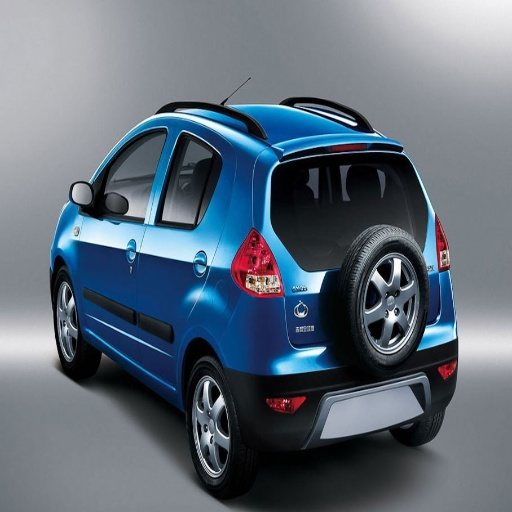back_bumper: (219, 295, 393, 451)
back_left_door: (139, 118, 222, 383)
trunk: (275, 220, 357, 347)
